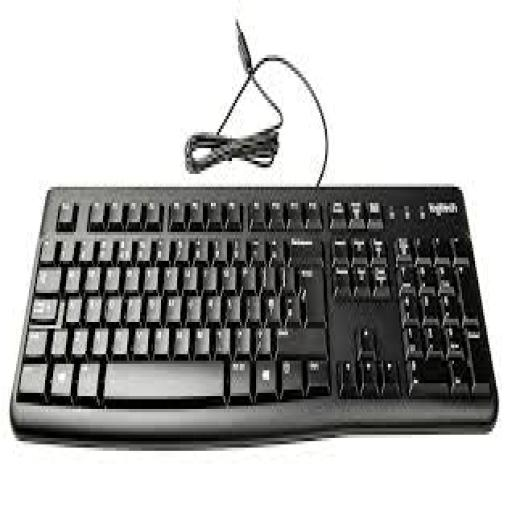keyboard: (10, 187, 496, 441)
